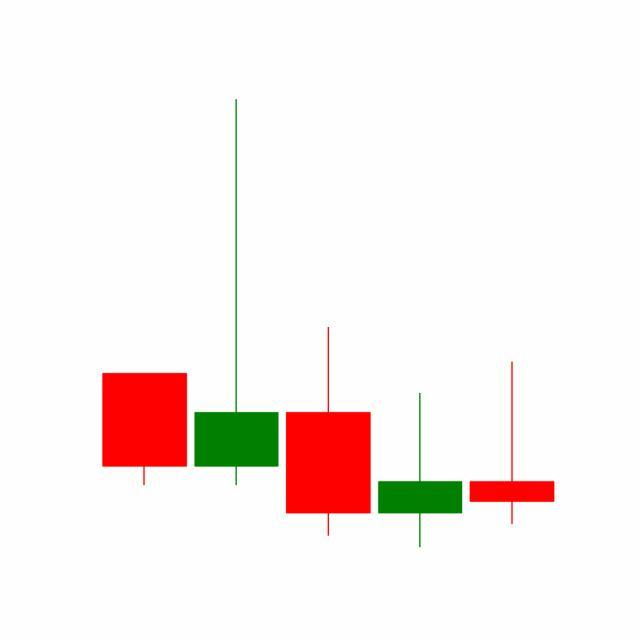Spinning Top: (466, 361, 559, 527)
